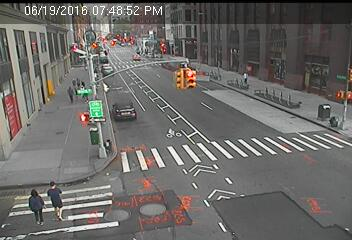neg: (243, 133, 282, 186), (71, 138, 99, 176), (142, 61, 166, 94), (212, 64, 231, 89), (198, 64, 216, 88), (107, 87, 124, 110), (139, 146, 153, 164), (216, 177, 230, 195)
pos: (42, 179, 72, 218), (21, 188, 49, 226), (59, 84, 74, 104), (238, 68, 253, 88), (81, 77, 89, 88)
